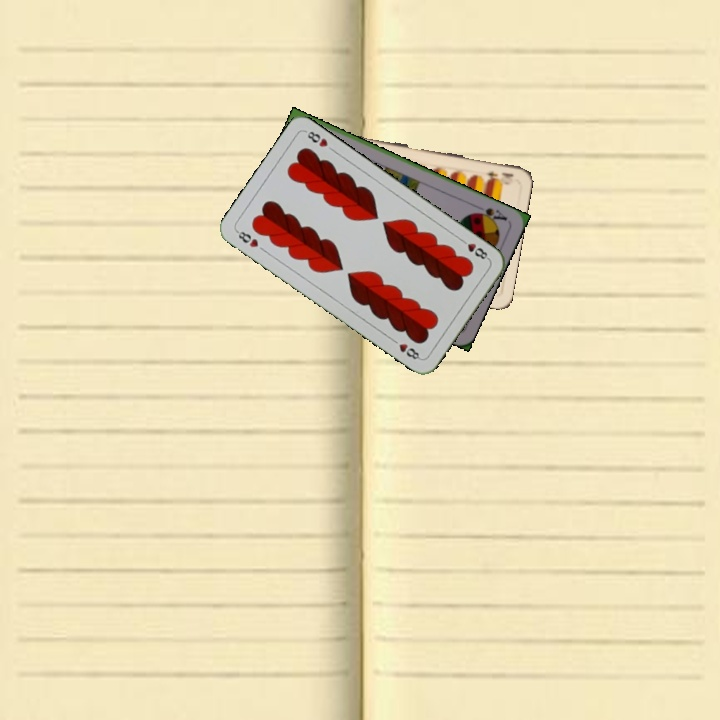E10: (481, 167, 516, 182)
H8: (456, 235, 492, 262), (232, 227, 261, 250)
SA: (469, 204, 510, 226)
